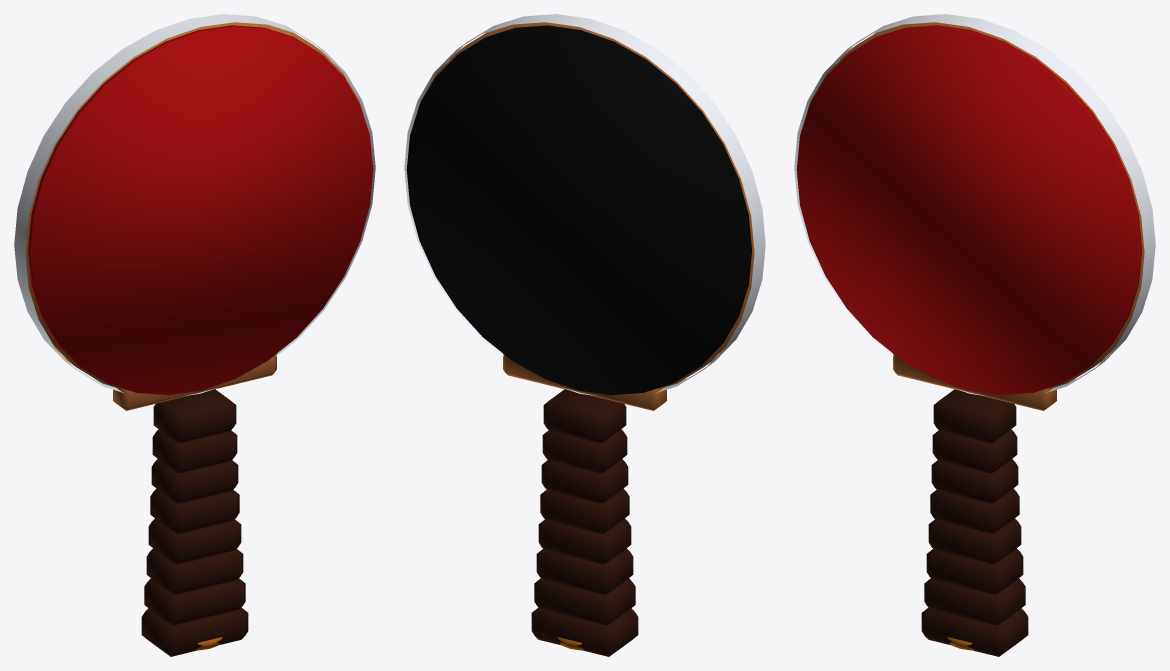
The model's file is cozy_tt_paddle_classic.obj.
3 renders of one model, left to right at view 1: azimuth 30°, elevation 25°; view 2: azimuth 150°, elevation 25°; view 3: azimuth 330°, elevation 25°, orthographic.
Visible parts, largest first — view 1: cozy_tt_paddle_classic_Mesh; view 2: cozy_tt_paddle_classic_Mesh; view 3: cozy_tt_paddle_classic_Mesh.
Boxes of the visible parts, x1=… form: cozy_tt_paddle_classic_Mesh: x1=14, y1=14, x2=375, y2=656; cozy_tt_paddle_classic_Mesh: x1=404, y1=14, x2=765, y2=656; cozy_tt_paddle_classic_Mesh: x1=794, y1=14, x2=1155, y2=656.
Bounding box in the file's own units: 0.1536 × 0.2586 × 0.026.
